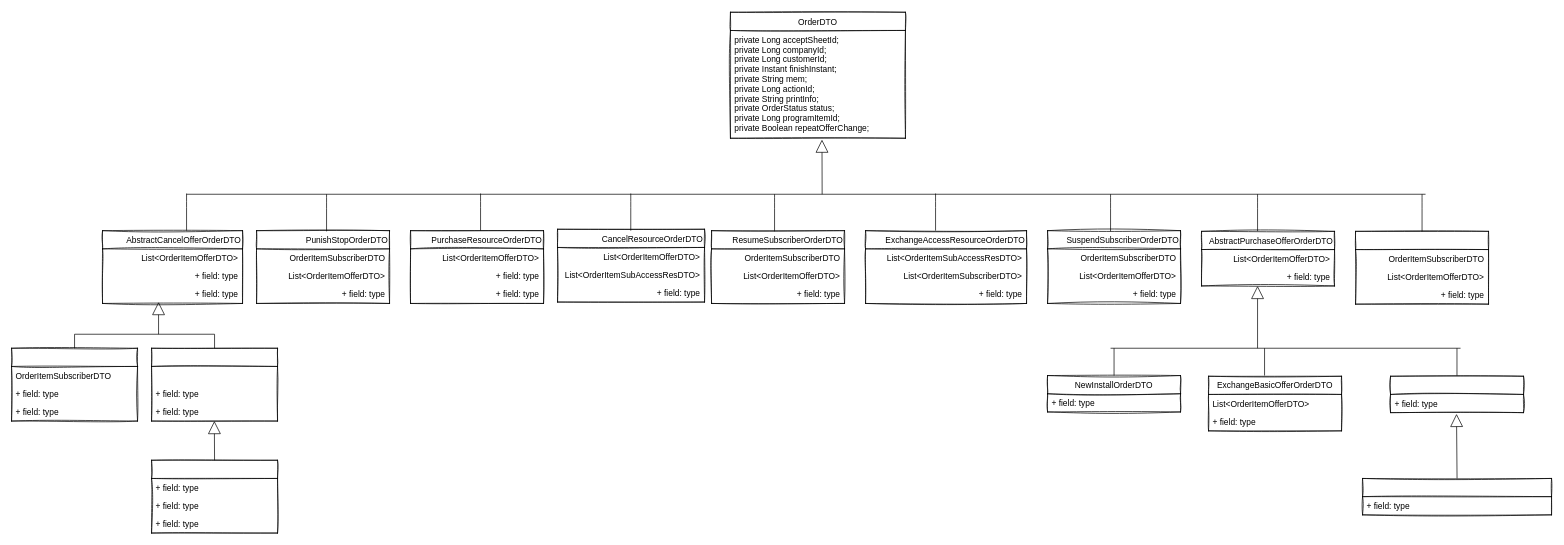
The diagram is 1564 pixels wide and 545 high, and some of its shapes have lost their labels. Here are the shapes that lost their labels. From the top down, the box of each, then its label:
(1355, 231, 1489, 304): ReopenOrderDTO
(11, 348, 138, 421): LogoutSubscriberOrderDTO
(151, 348, 278, 421): CancelOfferOrderDTO
(1390, 376, 1524, 413): PurchaseOfferOrderDTO
(151, 460, 278, 533): ExchangeCancelOfferOrderDTO
(1362, 478, 1552, 515): ExchangePurchaseOfferOrderDTO
